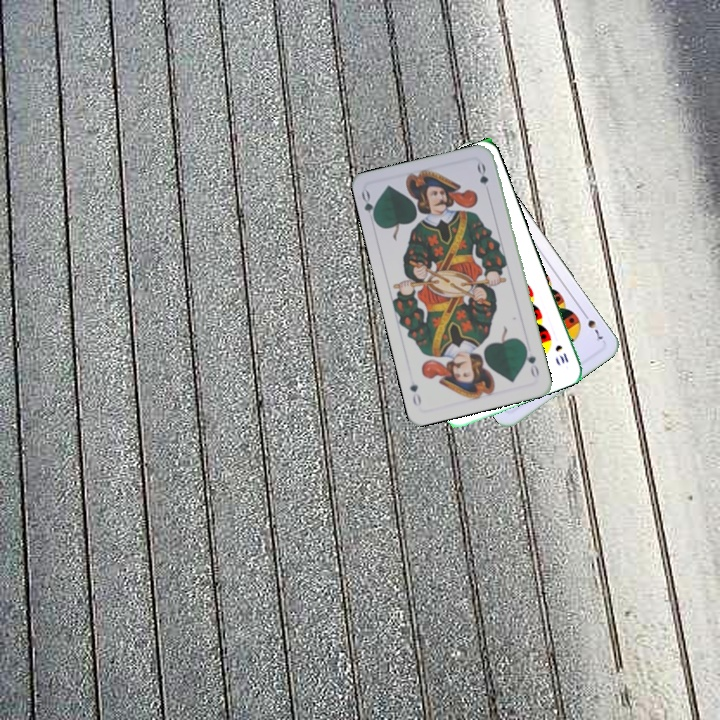GO: (357, 187, 379, 226), (521, 342, 542, 381)
S10: (551, 341, 571, 366)
S7: (579, 308, 605, 344)
